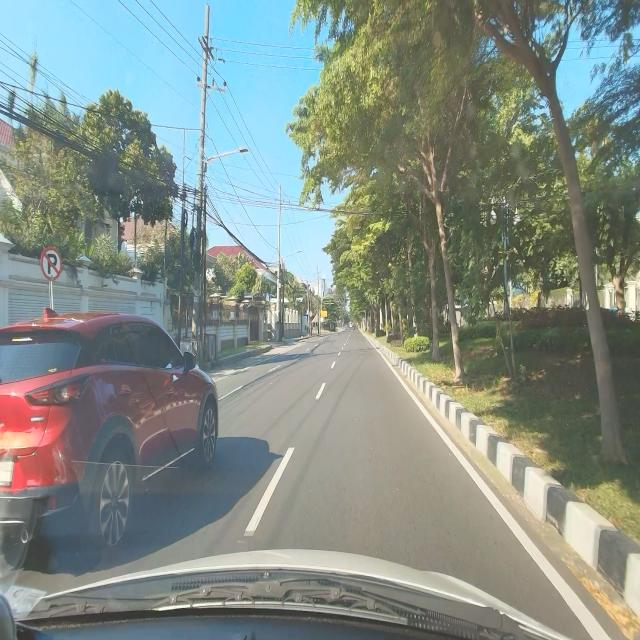car: (0, 305, 222, 554)
